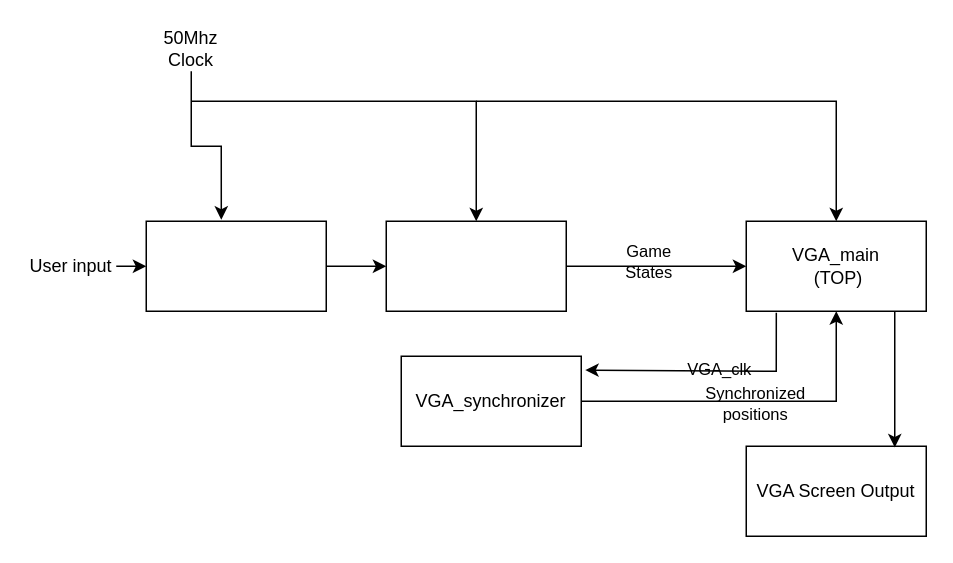
Image size: 953x563. Some labels were removed from this diagram. The box of each missing label's shape, as (x1, y1, x2, y2) in pixels:
Debouncer: (145, 220, 326, 311)
Game_controller: (385, 220, 566, 311)
